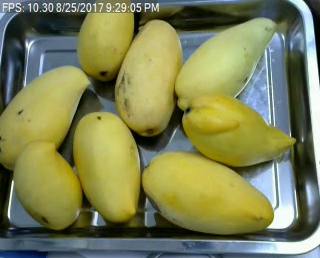Mango: (142, 151, 274, 234), (175, 18, 276, 114), (0, 65, 89, 171), (180, 95, 297, 168), (111, 20, 184, 136), (73, 112, 141, 225), (11, 140, 82, 228), (76, 0, 133, 82)
